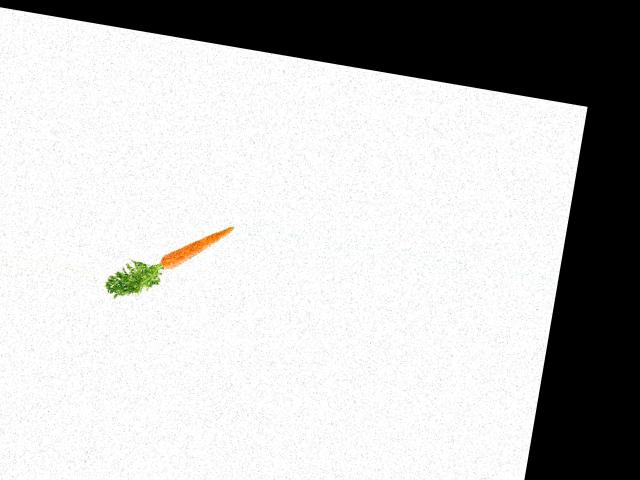carrot: (151, 212, 236, 281)
